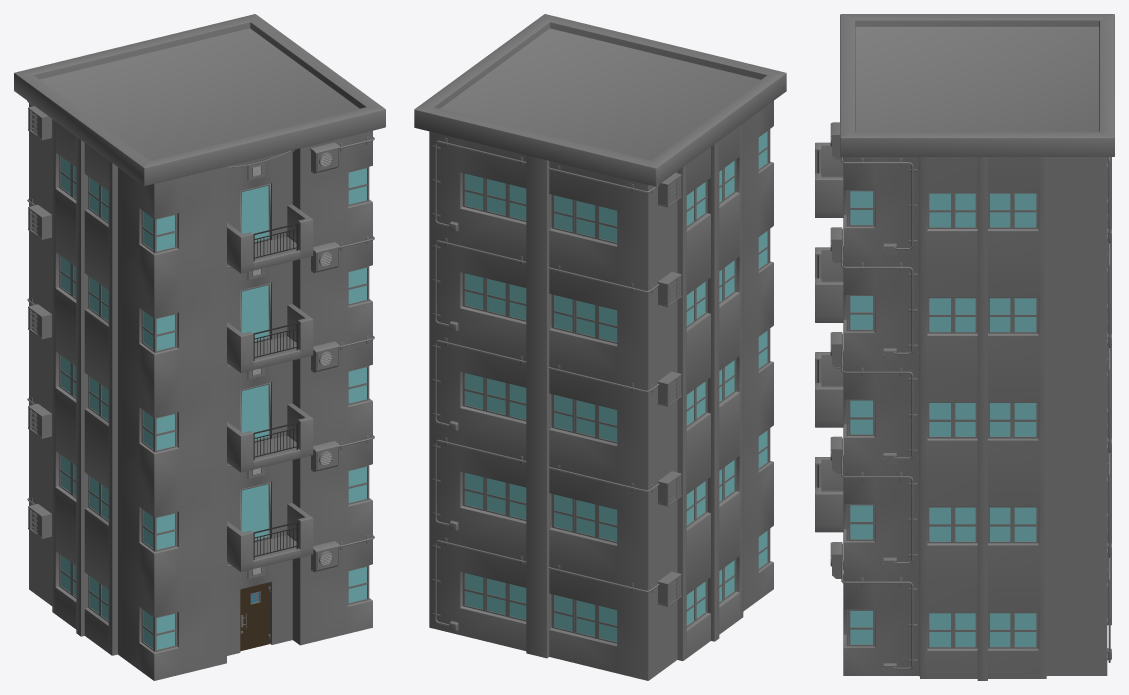
File: SM_apartment_building_02.fbx
The picture shows the model from 3 angles, left to right: view 1: azimuth 30°, elevation 25°; view 2: azimuth 150°, elevation 25°; view 3: azimuth 270°, elevation 25°; orthographic projection. The views are drawn at different scales.
Visible parts, largest first — view 1: Box719; view 2: Box719; view 3: Box719.
Boxes of the visible parts, <box> form: Box719: <box>14,14,385,680</box>; Box719: <box>414,14,786,680</box>; Box719: <box>815,14,1114,680</box>.
Bounding box in the file's own units: 375 × 766 × 383.
